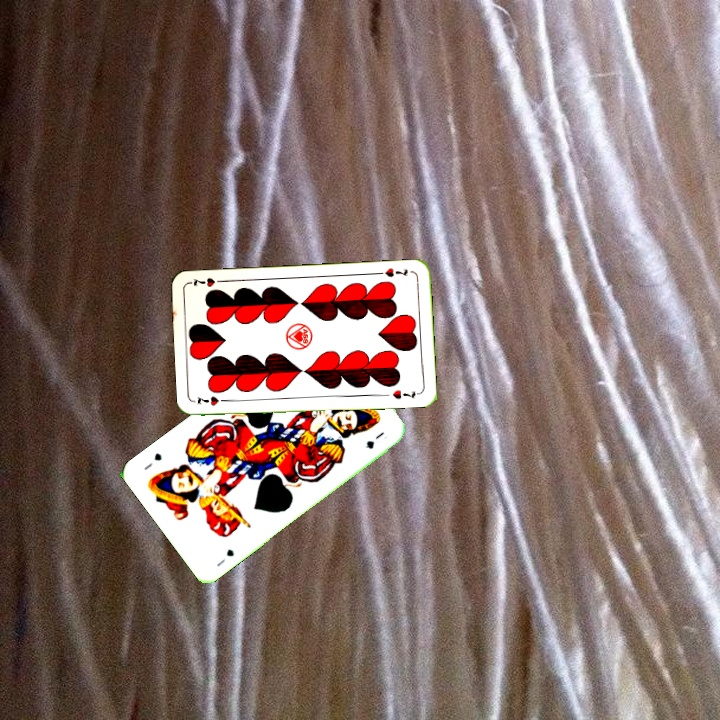GU: (212, 545, 237, 569)
H7: (193, 393, 232, 408), (374, 264, 410, 280)
